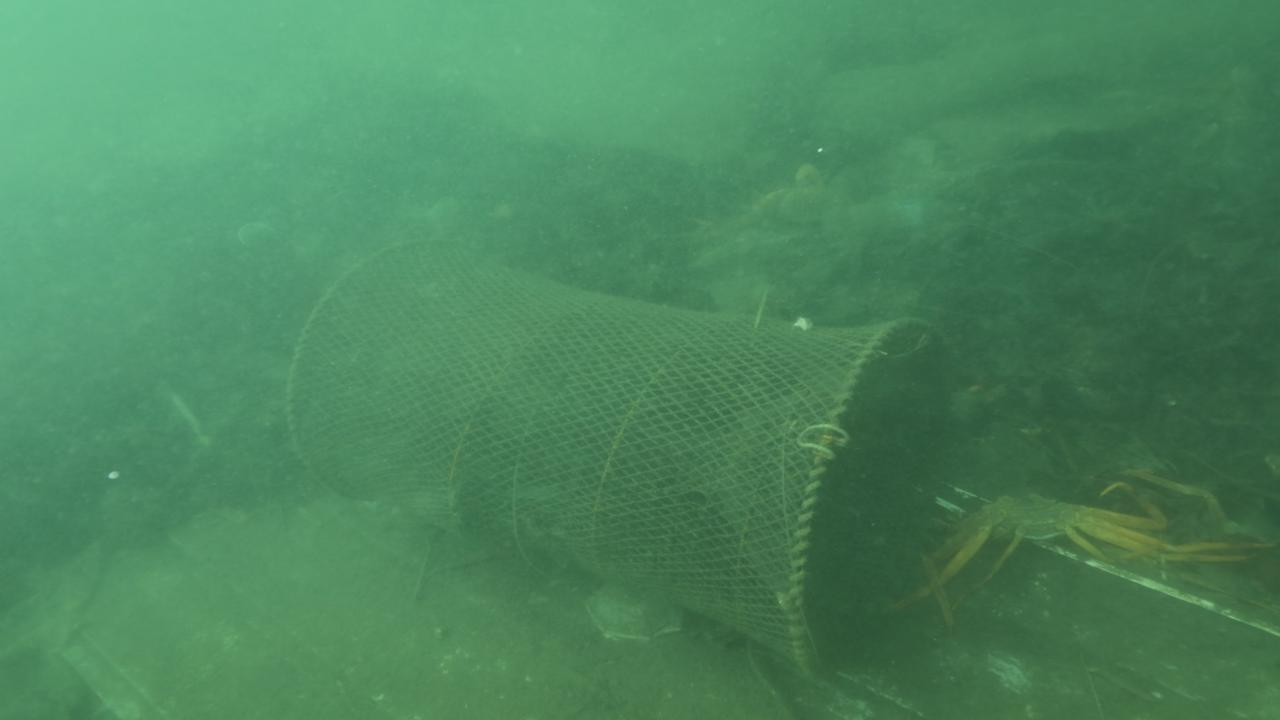spring fish trap: (282, 234, 961, 688)
